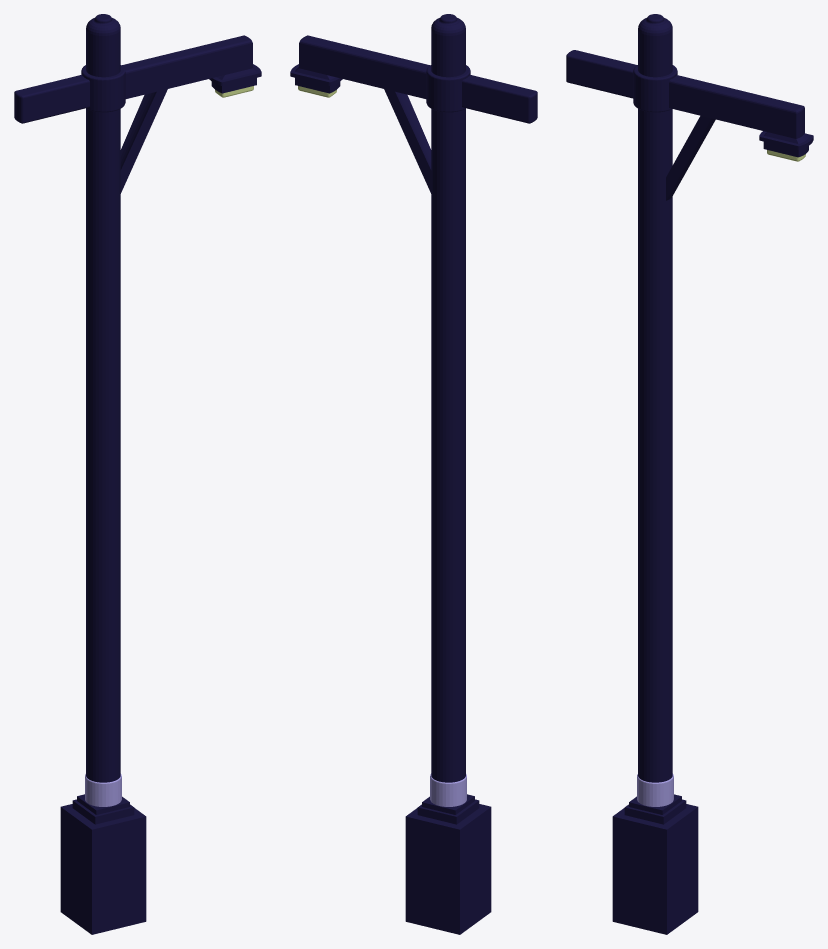
Rendered from street_lamp.fbx.
The picture shows the model from 3 angles, left to right: view 1: azimuth 30°, elevation 25°; view 2: azimuth 150°, elevation 25°; view 3: azimuth 330°, elevation 25°; orthographic projection.
Parts seen in each view (by area): view 1: Street Lamp; view 2: Street Lamp; view 3: Street Lamp.
Boxes of the visible parts, bbox=[...] form: Street Lamp: bbox=[14, 14, 261, 934]; Street Lamp: bbox=[290, 14, 537, 934]; Street Lamp: bbox=[566, 14, 813, 934].
Size of the model in its own units: 63.47 by 227 by 14.34.
